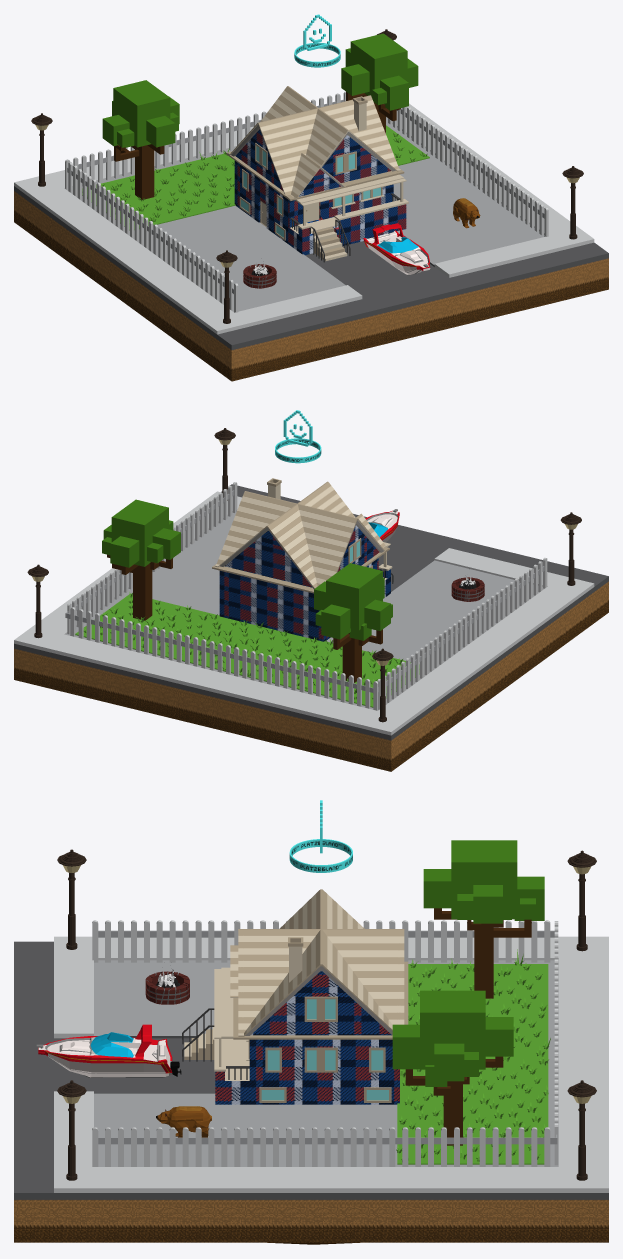
The picture shows the model from 3 angles, top to bottom: view 1: azimuth 30°, elevation 25°; view 2: azimuth 150°, elevation 25°; view 3: azimuth 270°, elevation 25°; orthographic projection. The views are drawn at different scales.
Visible parts, largest first — view 1: Cube.004, Cube.171, VEHICLES_BOAT, TYPE_PREMIUM, OBJRANDOM_CAMPFIRE, ANIMAL_OSO; view 2: Cube.004, Cube.171, TYPE_PREMIUM, OBJRANDOM_CAMPFIRE, VEHICLES_BOAT; view 3: Cube.004, Cube.171, VEHICLES_BOAT, OBJRANDOM_CAMPFIRE, TYPE_PREMIUM, ANIMAL_OSO.
Boxes of the visible parts, x1=… form: Cube.004: x1=14, y1=29, x2=608, y2=381; Cube.171: x1=226, y1=86, x2=408, y2=262; VEHICLES_BOAT: x1=363, y1=223, x2=430, y2=275; TYPE_PREMIUM: x1=294, y1=14, x2=340, y2=67; OBJRANDOM_CAMPFIRE: x1=243, y1=263, x2=276, y2=288; ANIMAL_OSO: x1=453, y1=198, x2=480, y2=228; Cube.004: x1=14, y1=428, x2=608, y2=771; Cube.171: x1=212, y1=478, x2=393, y2=641; TYPE_PREMIUM: x1=275, y1=410, x2=321, y2=463; OBJRANDOM_CAMPFIRE: x1=451, y1=576, x2=484, y2=601; VEHICLES_BOAT: x1=365, y1=509, x2=399, y2=542; Cube.004: x1=14, y1=840, x2=608, y2=1242; Cube.171: x1=182, y1=889, x2=408, y2=1104; VEHICLES_BOAT: x1=36, y1=1024, x2=181, y2=1077; OBJRANDOM_CAMPFIRE: x1=145, y1=969, x2=189, y2=1004; TYPE_PREMIUM: x1=289, y1=800, x2=352, y2=872; ANIMAL_OSO: x1=156, y1=1106, x2=211, y2=1137.
Size of the model in its own units: 4000 by 2533 by 4000.
34 materials, 5 textured.
